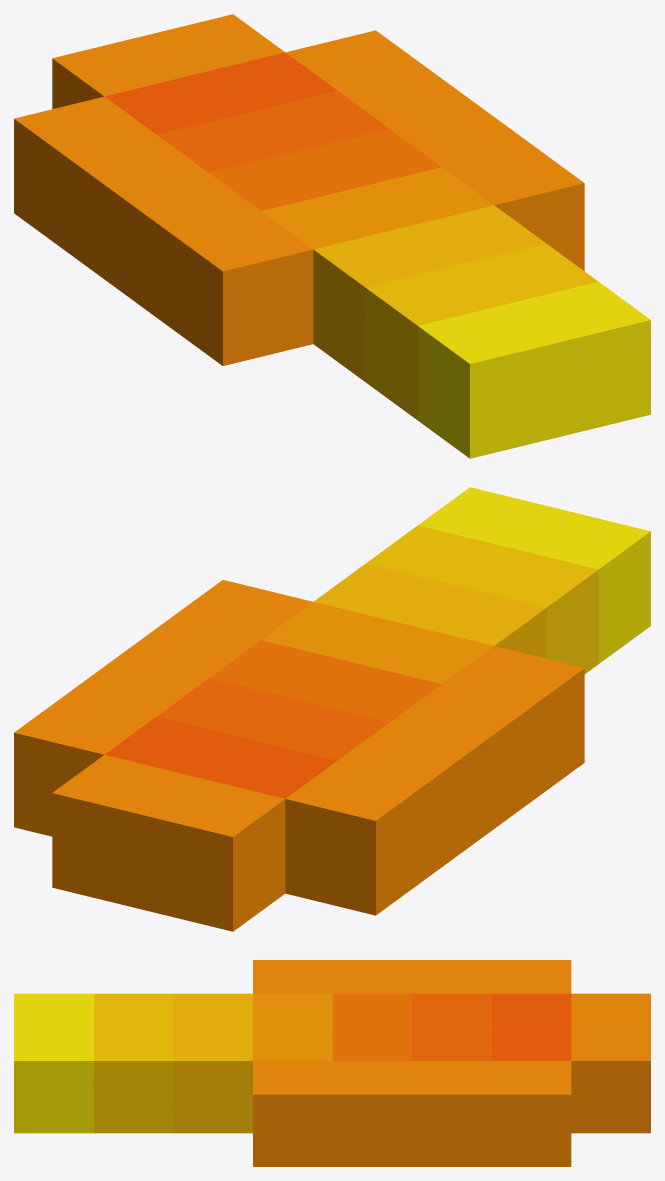
The model's file is PlayerSmallBullet.fbx.
The picture shows the model from 3 angles, top to bottom: view 1: azimuth 30°, elevation 25°; view 2: azimuth 150°, elevation 25°; view 3: azimuth 270°, elevation 25°; orthographic projection. The views are drawn at different scales.
Parts seen in each view (by area): view 1: cuboid; view 2: cuboid; view 3: cuboid.
Part boxes in pixels (<box>): cuboid: <box>14,14,650,458</box>; cuboid: <box>14,487,650,931</box>; cuboid: <box>14,960,650,1166</box>.
Bounding box in the file's own units: 25 × 6.25 × 50.
1 material, 1 textured.
